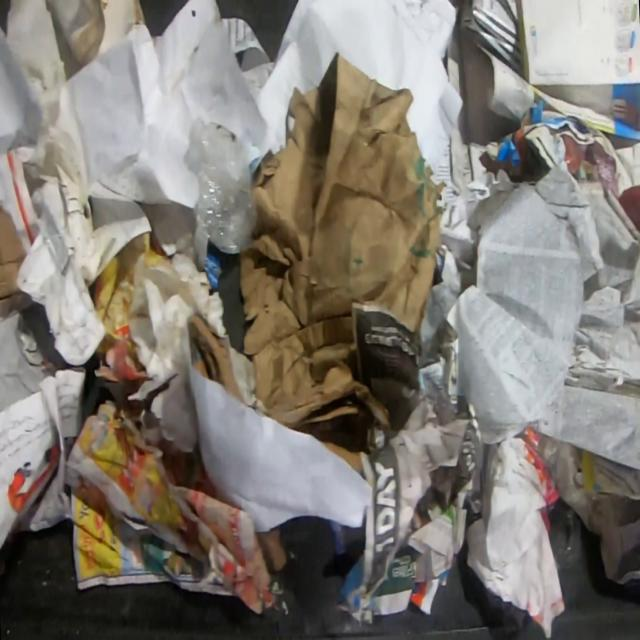cardboard: (235, 52, 448, 476), (47, 0, 148, 70), (186, 311, 244, 403), (0, 207, 38, 319)
rigid_plastic: (188, 112, 261, 257), (549, 504, 585, 571)
